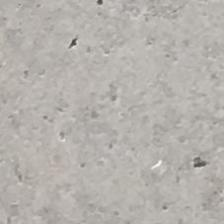Non_Crack: (25, 28, 224, 208)
